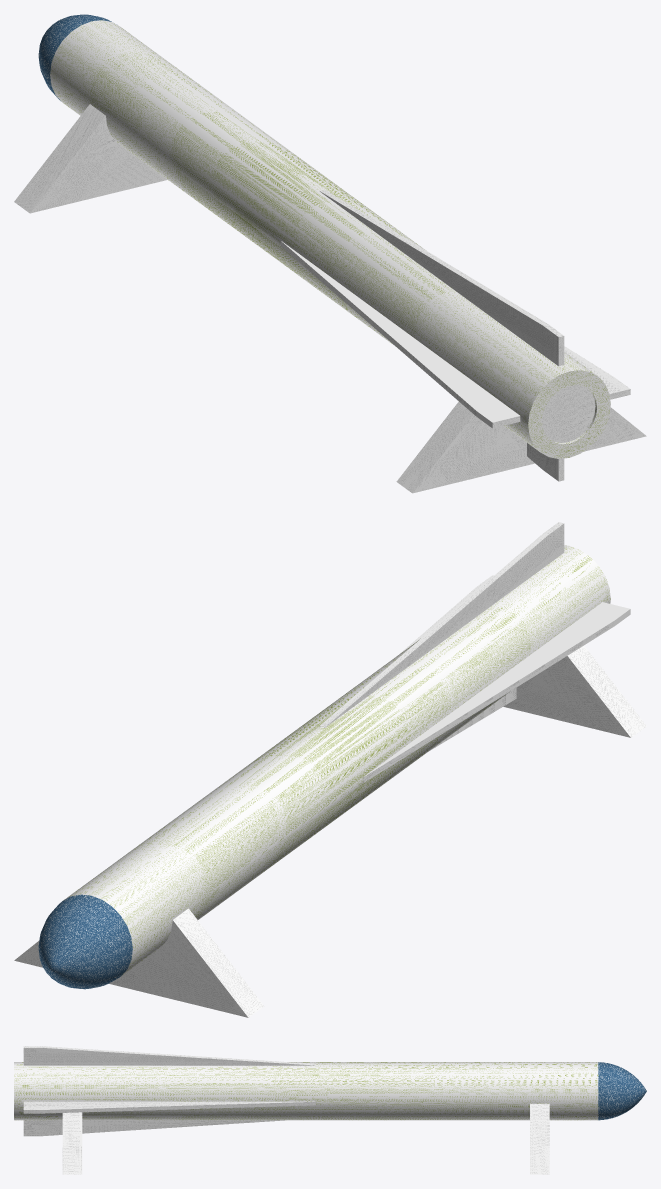
3 views of the same model, one above another, from view 1: azimuth 30°, elevation 25°; view 2: azimuth 150°, elevation 25°; view 3: azimuth 270°, elevation 25° (orthographic). The views are drawn at different scales.
Parts seen in each view (by area): view 1: mesh1_mesh1-geometry; view 2: mesh1_mesh1-geometry; view 3: mesh1_mesh1-geometry.
Part boxes in pixels (x1,y1,x2,y2): mesh1_mesh1-geometry: (14, 14, 646, 493); mesh1_mesh1-geometry: (14, 522, 646, 1017); mesh1_mesh1-geometry: (14, 1046, 646, 1174).
Size of the model in its own units: 0.25 by 0.1544 by 0.9559.
